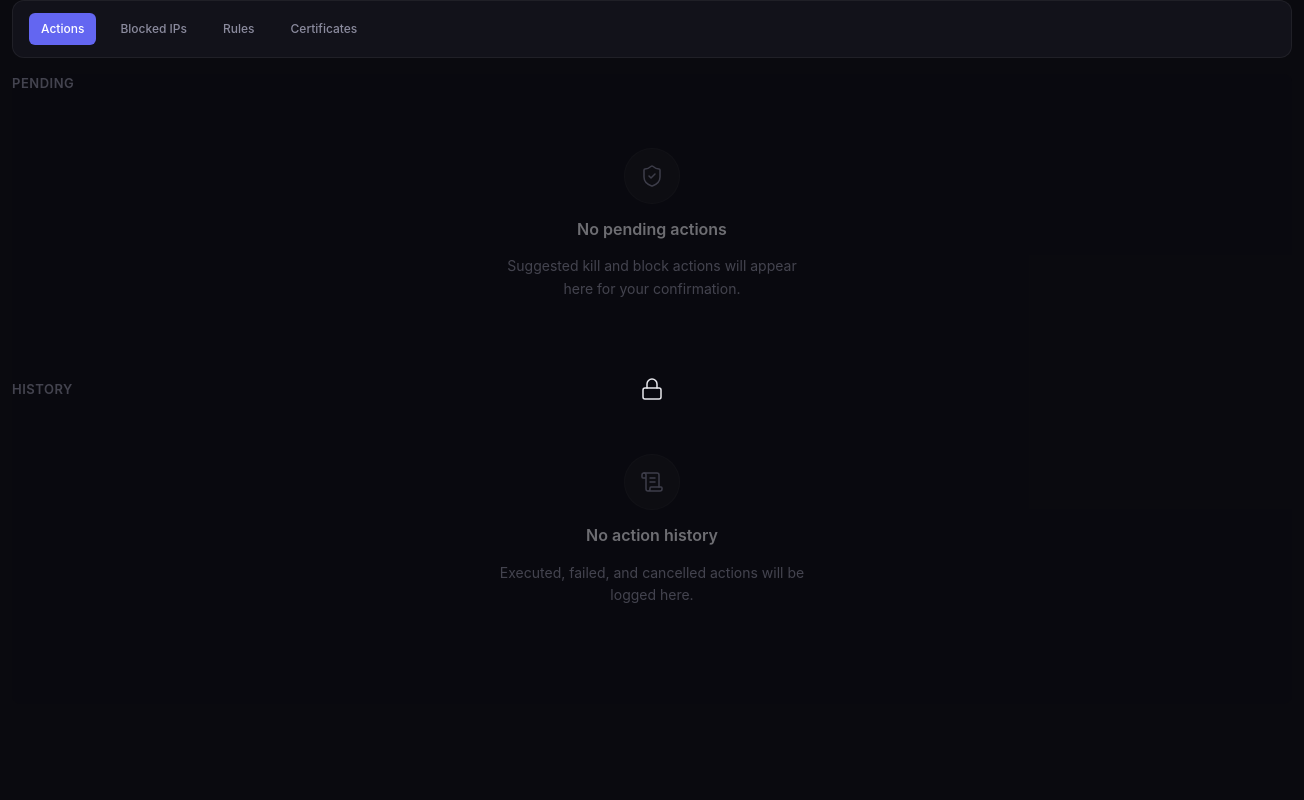
Test: DefenseView › renders a cert row with its status badge on the Certificates tab
Click the tab "Certificates": (324, 29) [278,13,369,45]
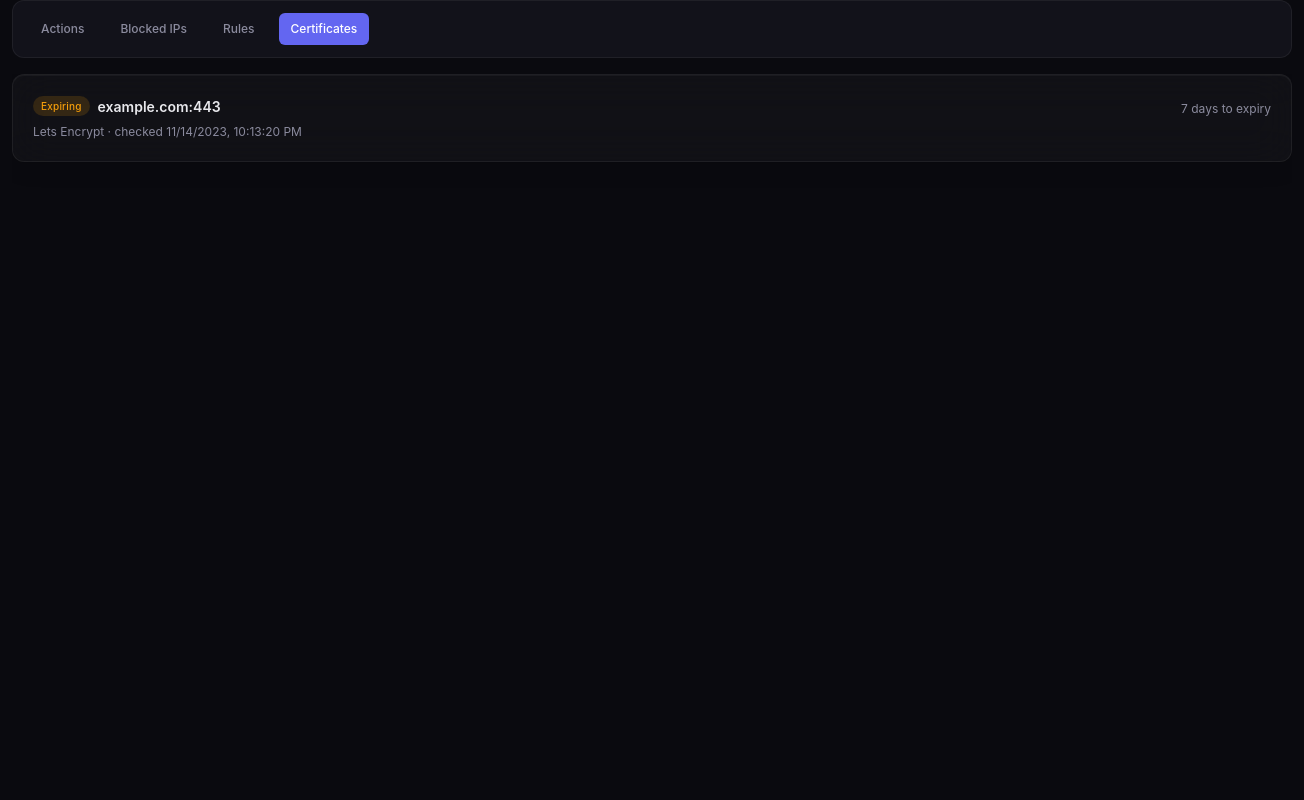
Result: the text "example.com:443" is shown at [98,97,221,116]
Result: the text "Expiring" is shown at [33,96,90,116]
Result: the text "7 days to expiry" is shown at [1181,101,1271,118]
